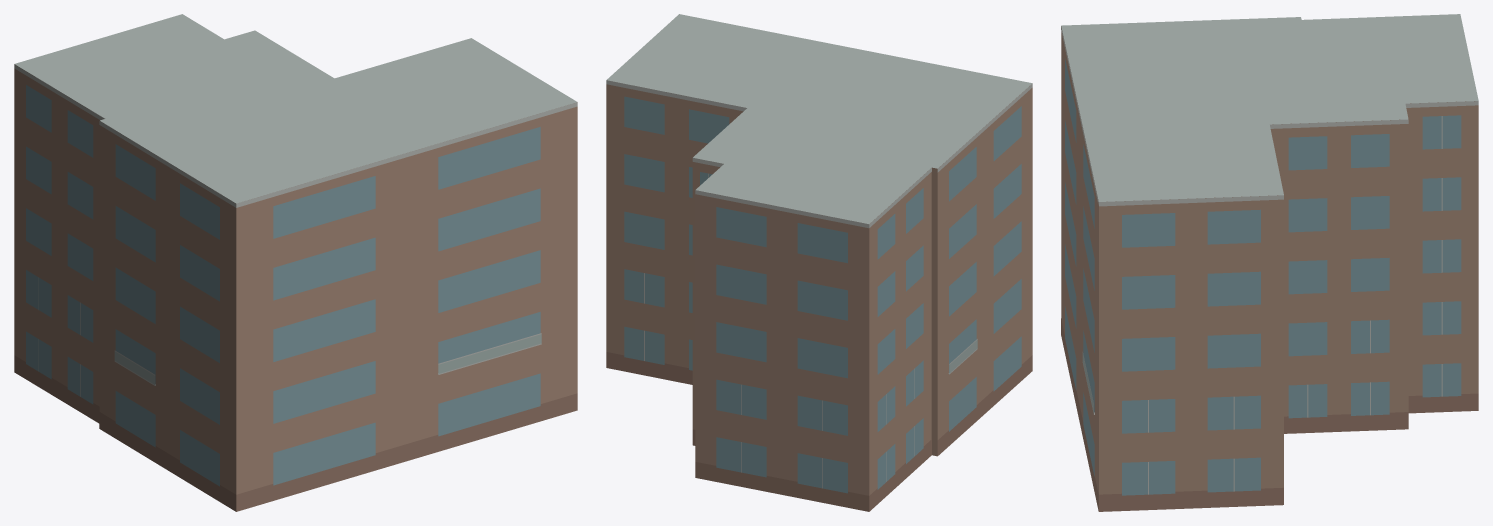
Rendered from survey-upis-33002603.glb.
The picture shows the model from 3 angles, left to right: view 1: azimuth 30°, elevation 25°; view 2: azimuth 150°, elevation 25°; view 3: azimuth 270°, elevation 25°; orthographic projection. The views are drawn at different scales.
Parts seen in each view (by area): view 1: survey-upis-33002603.tmp; view 2: survey-upis-33002603.tmp; view 3: survey-upis-33002603.tmp.
Part boxes in pixels (left/top/right/bottom): survey-upis-33002603.tmp: left=14, top=14, right=577, bottom=511; survey-upis-33002603.tmp: left=606, top=14, right=1032, bottom=511; survey-upis-33002603.tmp: left=1061, top=14, right=1478, bottom=511.
Bounding box in the file's own units: 22.4 × 17.2 × 21.02.
